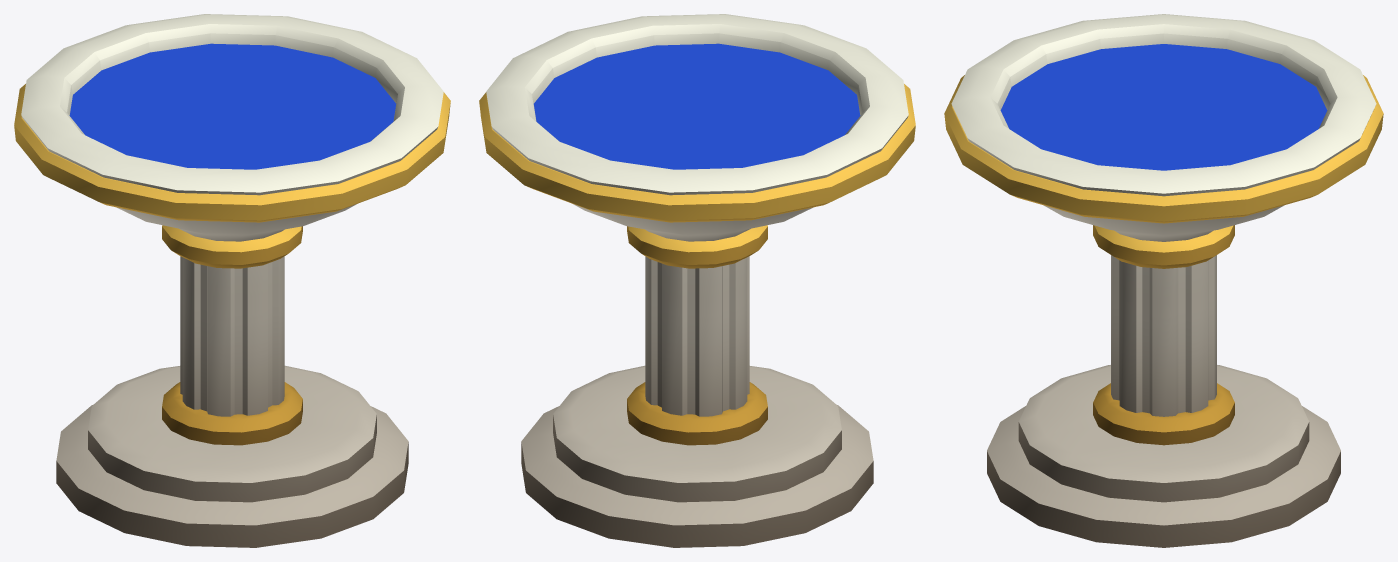
Rendered from fountain_chalice_mana.glb.
3 views of the same model, side by side, from view 1: azimuth 30°, elevation 25°; view 2: azimuth 150°, elevation 25°; view 3: azimuth 270°, elevation 25° (orthographic).
Parts seen in each view (by area): view 1: Item; view 2: Item; view 3: Item.
Boxes of the visible parts, <box> form: Item: <box>14,14,450,547</box>; Item: <box>479,14,915,547</box>; Item: <box>944,14,1383,547</box>.
Bounding box in the file's own units: 1.24 × 1.17 × 1.24.
Materials: 3 (3 with a texture image).
